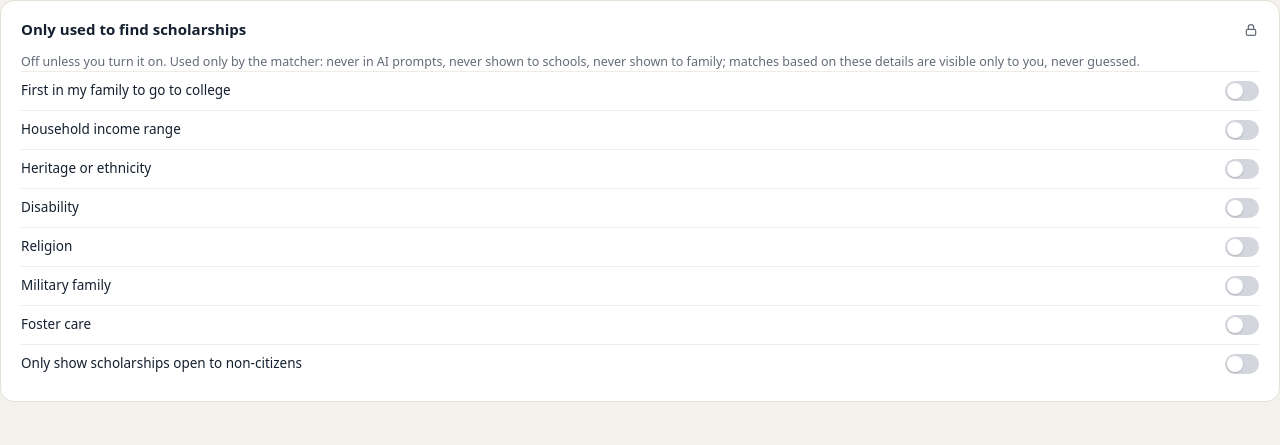
Test: SensitiveToggles (ME-05) › reverts when saving fails
Click the switch named "Military family" in the row of "Military family" at (1242, 286), box 1225,276 -> 1259,296
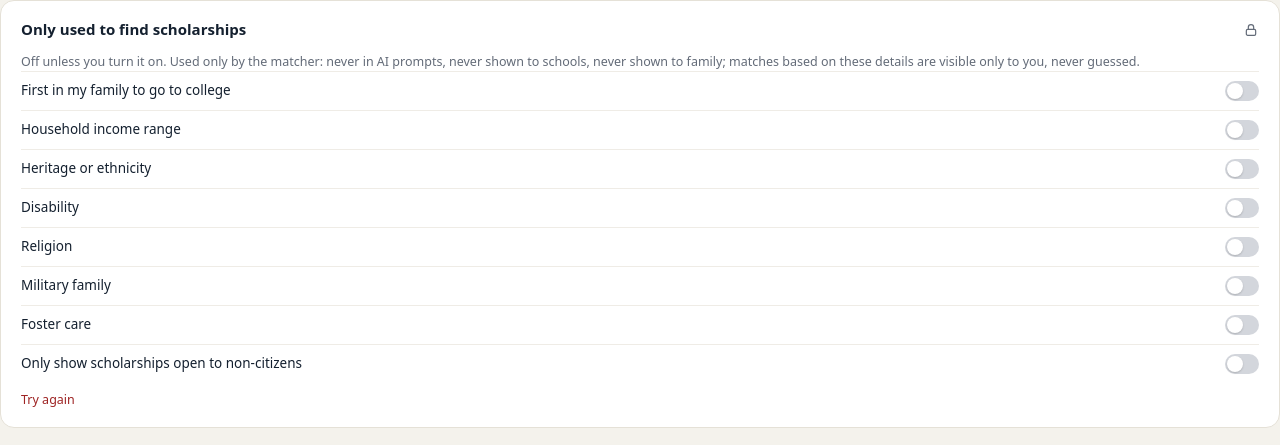
Expected: the text "Try again" is shown, 21,391 -> 75,408
